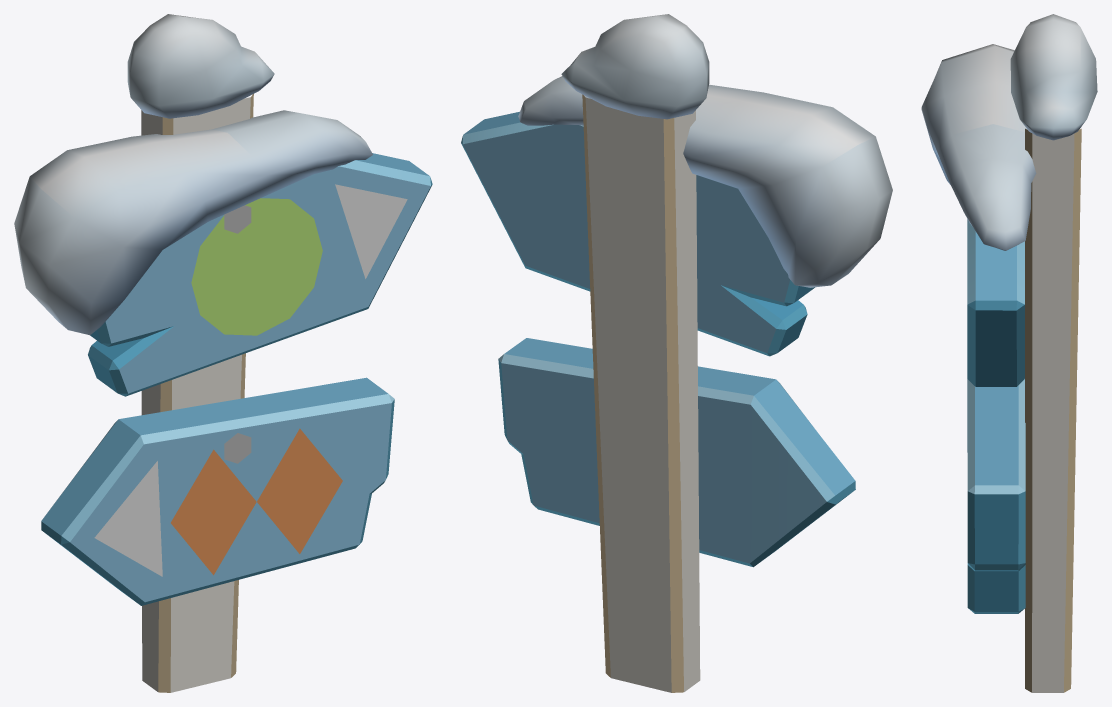
File: sign.glb
The picture shows the model from 3 angles, left to right: view 1: azimuth 30°, elevation 25°; view 2: azimuth 150°, elevation 25°; view 3: azimuth 270°, elevation 25°; orthographic projection.
Visible parts, largest first — view 1: sign; view 2: sign; view 3: sign.
Part boxes in pixels (x1=…): sign: x1=14, y1=14, x2=432, y2=692; sign: x1=461, y1=14, x2=892, y2=692; sign: x1=921, y1=14, x2=1097, y2=692.
Bounding box in the file's own units: 2.78 × 4.34 × 1.06.
